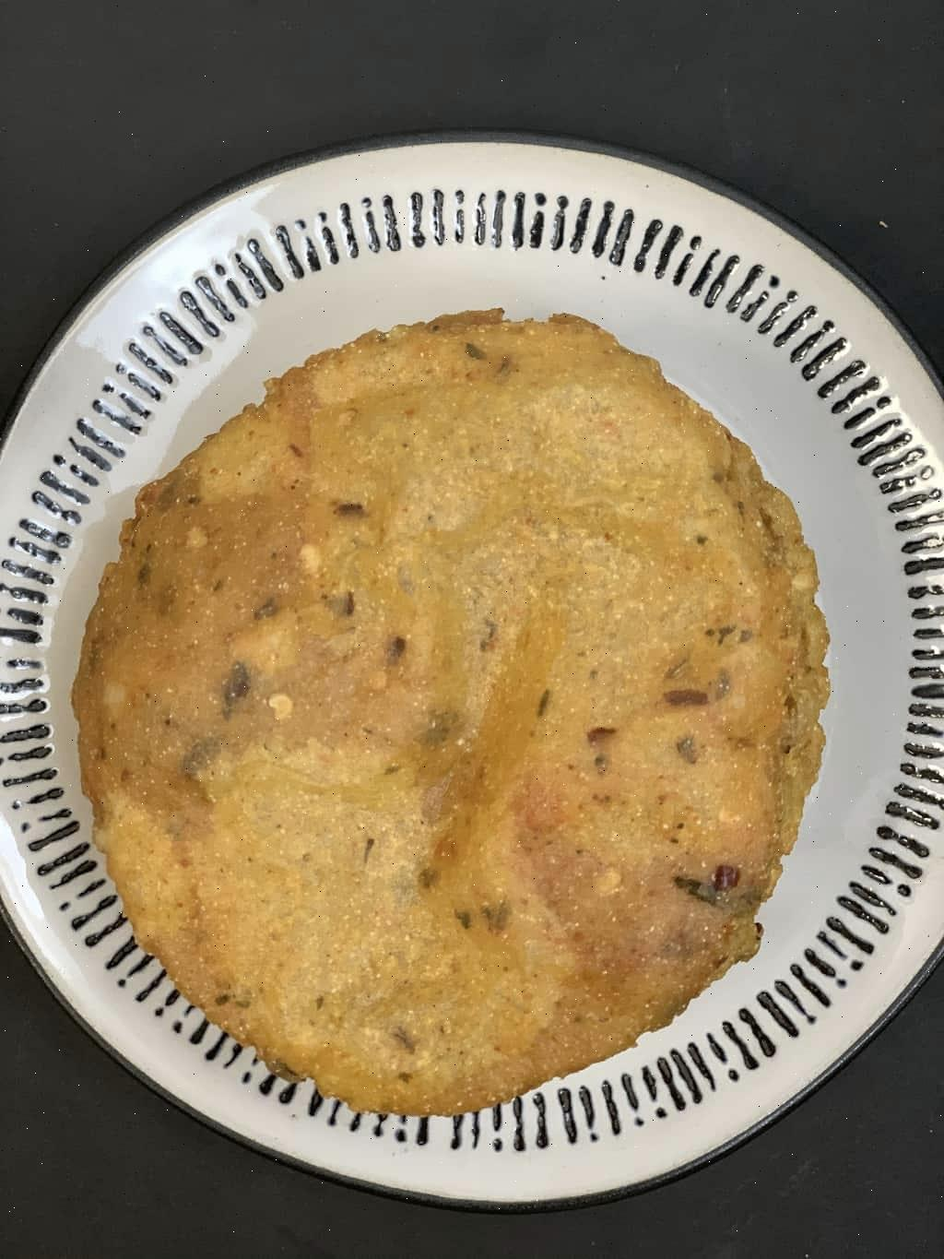puri: (61, 314, 944, 1113)
